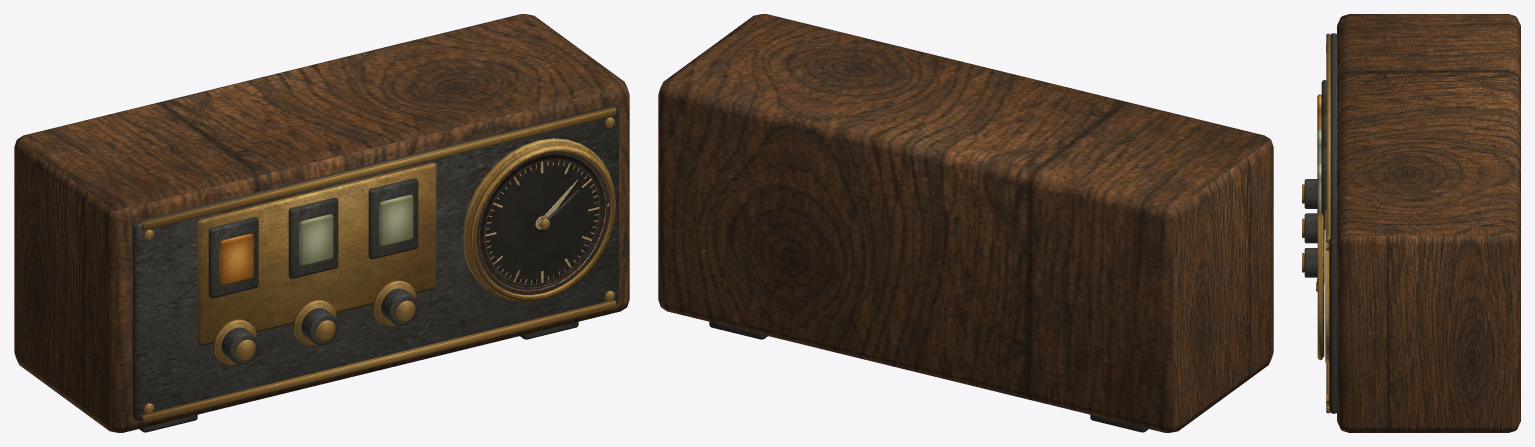
The model's file is SM_MoleControlV2_ShelfReceiver.fbx.
The picture shows the model from 3 angles, left to right: view 1: azimuth 30°, elevation 25°; view 2: azimuth 150°, elevation 25°; view 3: azimuth 270°, elevation 25°; orthographic projection. The views are drawn at different scales.
Parts seen in each view (by area): view 1: SM_MoleControlV2_ShelfReceiver; view 2: SM_MoleControlV2_ShelfReceiver; view 3: SM_MoleControlV2_ShelfReceiver.
Part boxes in pixels (x1,y1,x2,y2): SM_MoleControlV2_ShelfReceiver: (14, 14, 629, 432); SM_MoleControlV2_ShelfReceiver: (658, 14, 1273, 432); SM_MoleControlV2_ShelfReceiver: (1302, 14, 1520, 432).
Size of what is drawn, in the model's own units: 85 by 35 by 38.
